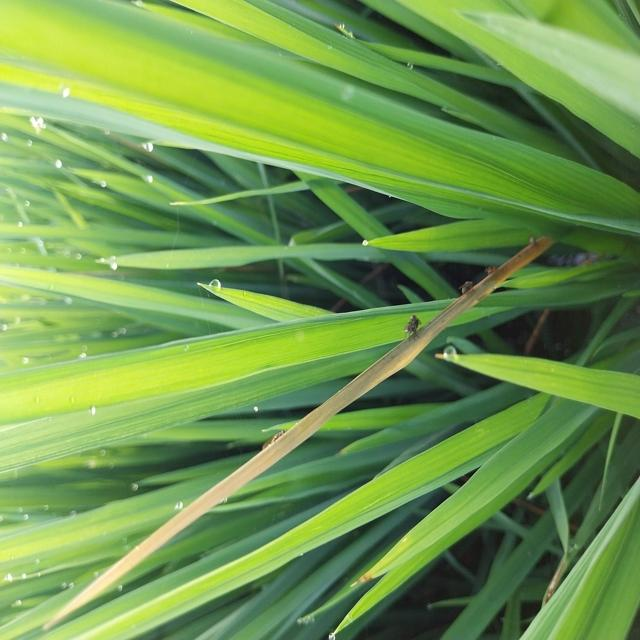healthy: (458, 268, 482, 308), (402, 310, 424, 346), (482, 261, 507, 280), (519, 233, 546, 249)
